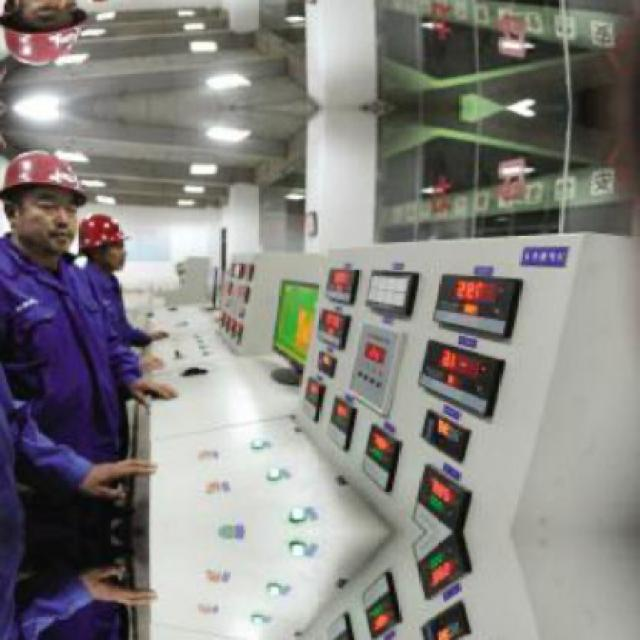helmet: (3, 144, 88, 262), (3, 0, 89, 74), (76, 208, 132, 276)
